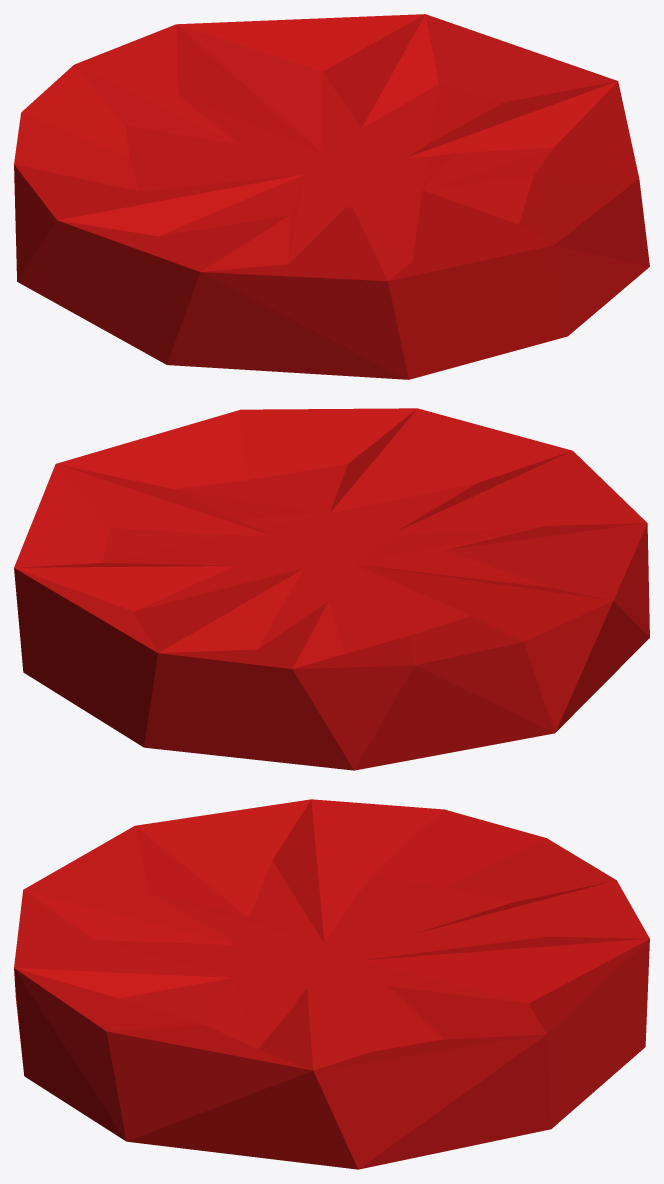
File: Tomato.obj
3 views of the same model, one above another, from view 1: azimuth 30°, elevation 25°; view 2: azimuth 150°, elevation 25°; view 3: azimuth 270°, elevation 25° (orthographic).
Visible parts, largest first — view 1: Цилиндр; view 2: Цилиндр; view 3: Цилиндр.
Boxes of the visible parts, <box> form: Цилиндр: <box>14,14,649,379</box>; Цилиндр: <box>14,408,649,770</box>; Цилиндр: <box>14,799,649,1169</box>.
Size of the model in its own units: 0.6155 by 0.1068 by 0.6066.
